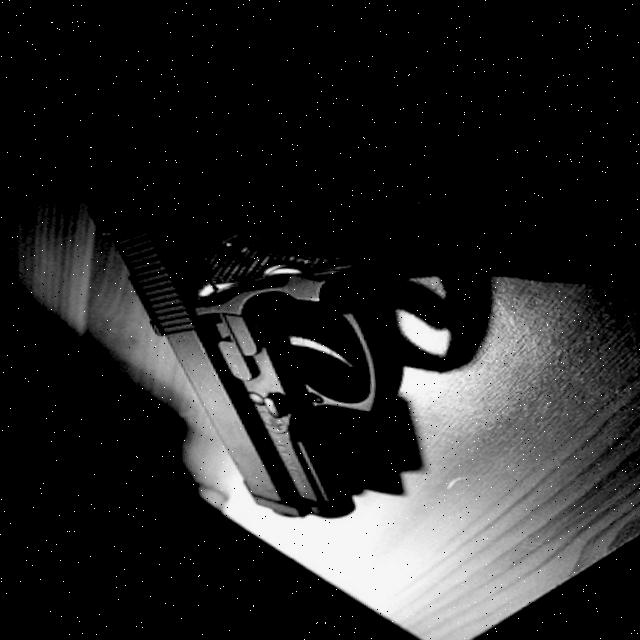pistol: (83, 179, 420, 543)
